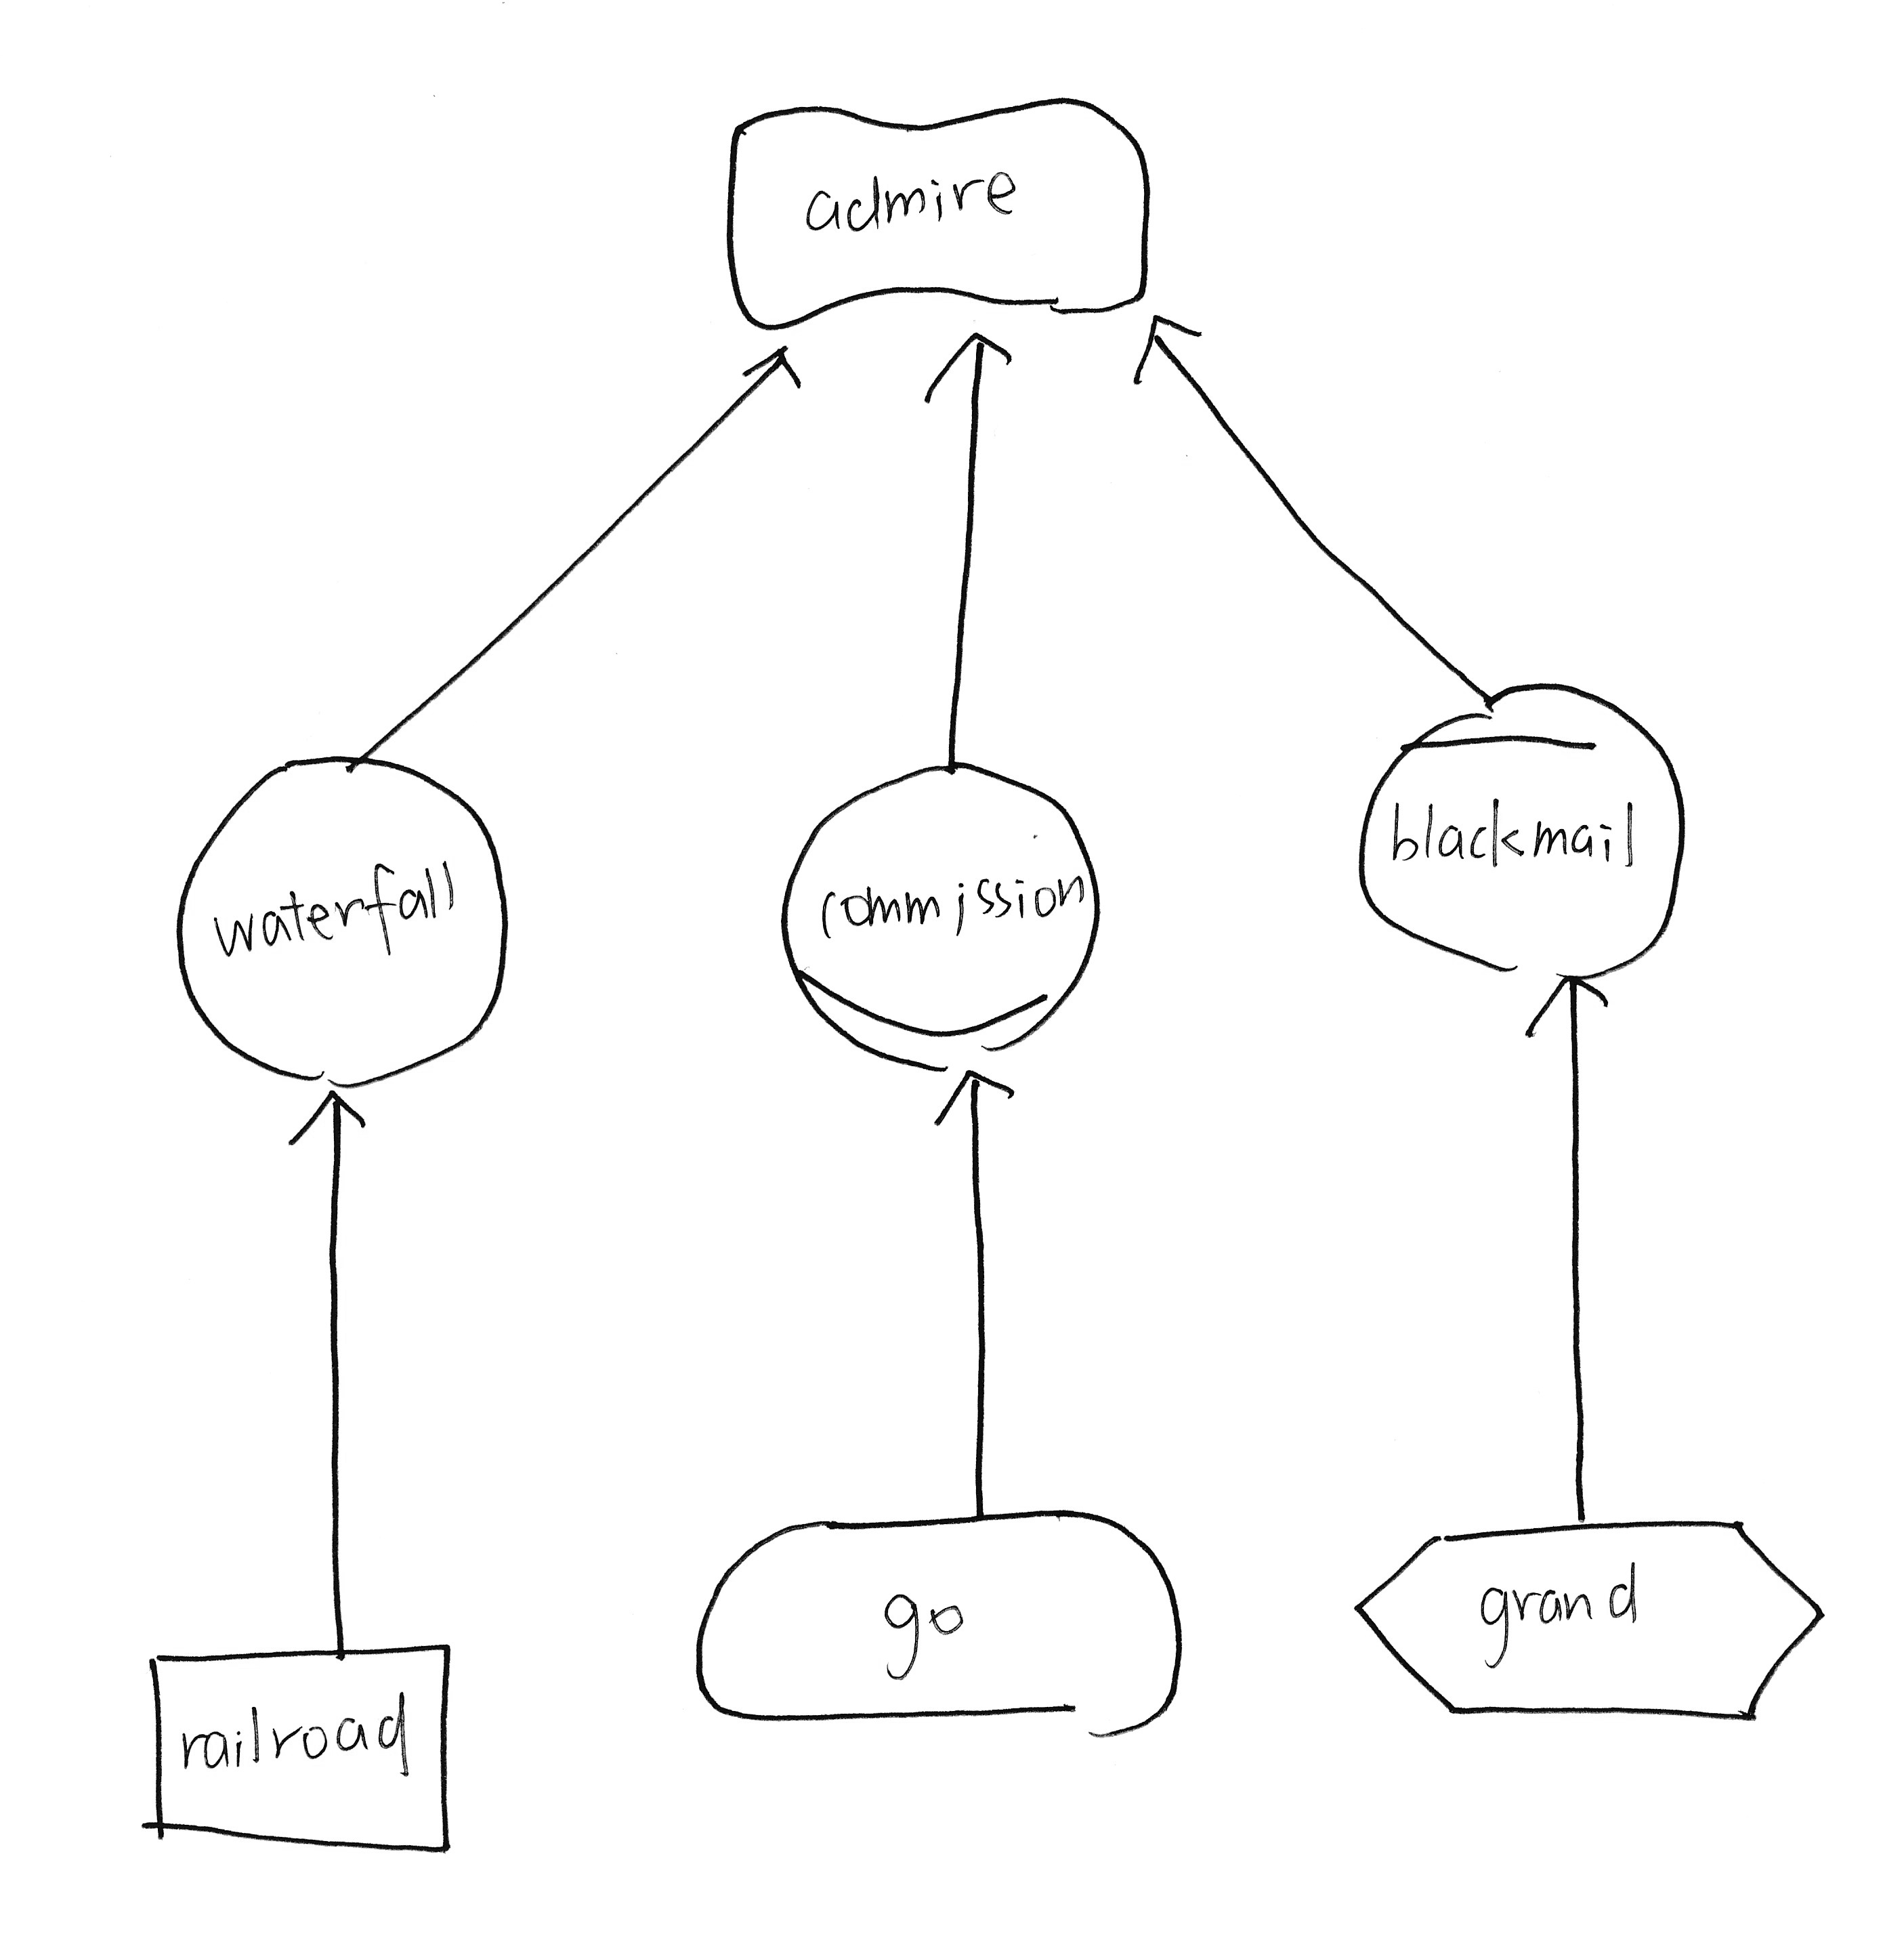actor: (145, 730, 535, 1109)
agent: (1336, 657, 1709, 997)
arrow: (914, 315, 1023, 424), (1513, 960, 1630, 1062), (1119, 291, 1217, 404), (263, 1068, 382, 1156), (915, 1049, 1027, 1136), (722, 329, 816, 404)
goal: (668, 1494, 1217, 1760)
quality: (701, 75, 1179, 352)
resource: (122, 1623, 481, 1881)
role: (751, 737, 1128, 1098)
task: (1337, 1496, 1846, 1752)
